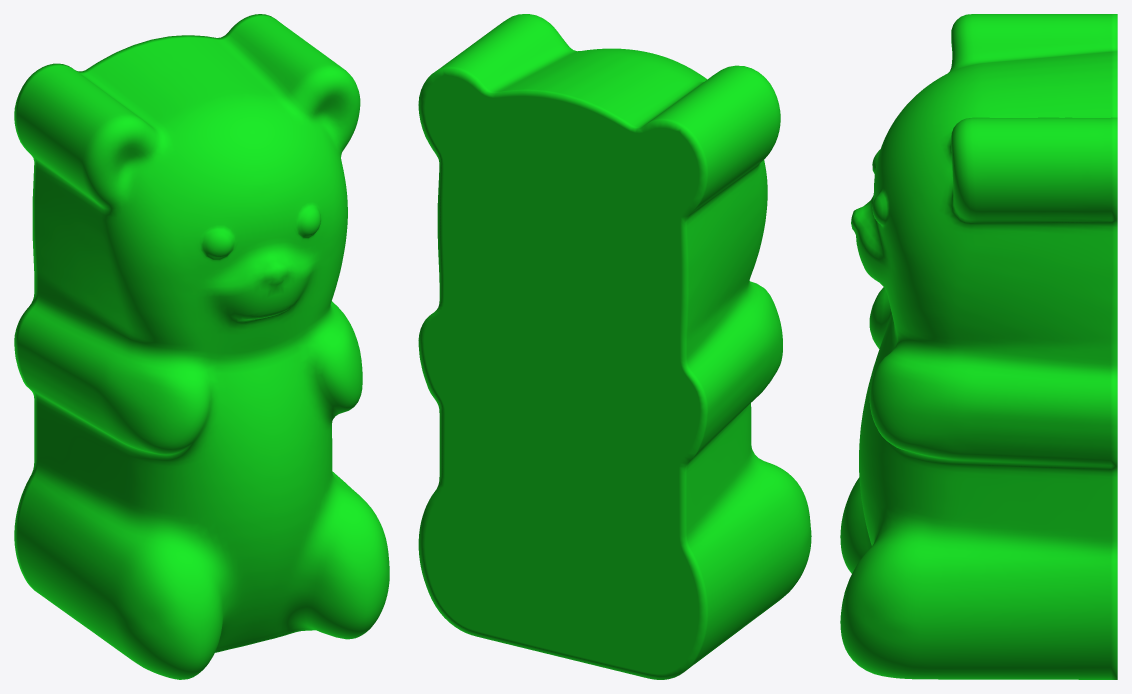
File: gummybear.glb
The picture shows the model from 3 angles, left to right: view 1: azimuth 30°, elevation 25°; view 2: azimuth 150°, elevation 25°; view 3: azimuth 270°, elevation 25°; orthographic projection. The views are drawn at different scales.
Visible parts, largest first — view 1: GummyBear; view 2: GummyBear; view 3: GummyBear.
Boxes of the visible parts, x1,y1,x2,y2 form: GummyBear: [14, 14, 389, 679]; GummyBear: [418, 14, 811, 679]; GummyBear: [840, 14, 1117, 679].
Size of the model in its own units: 3.94 by 7.37 by 3.29.
